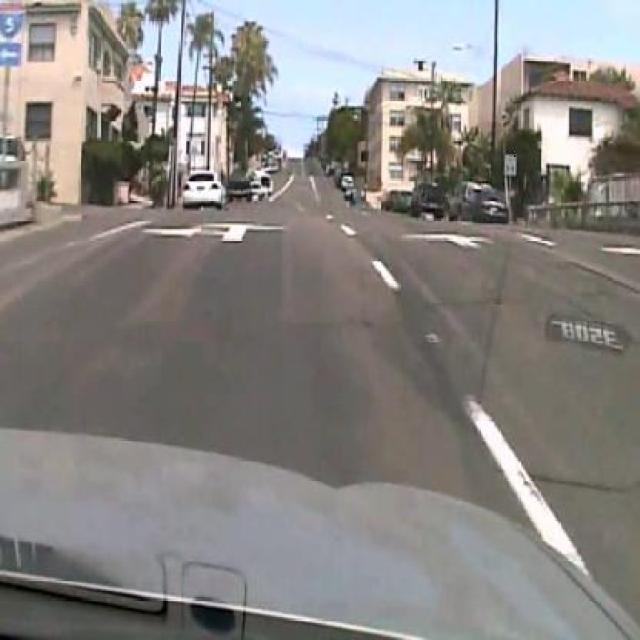speedLimitUrdbl: (503, 152, 517, 178)
